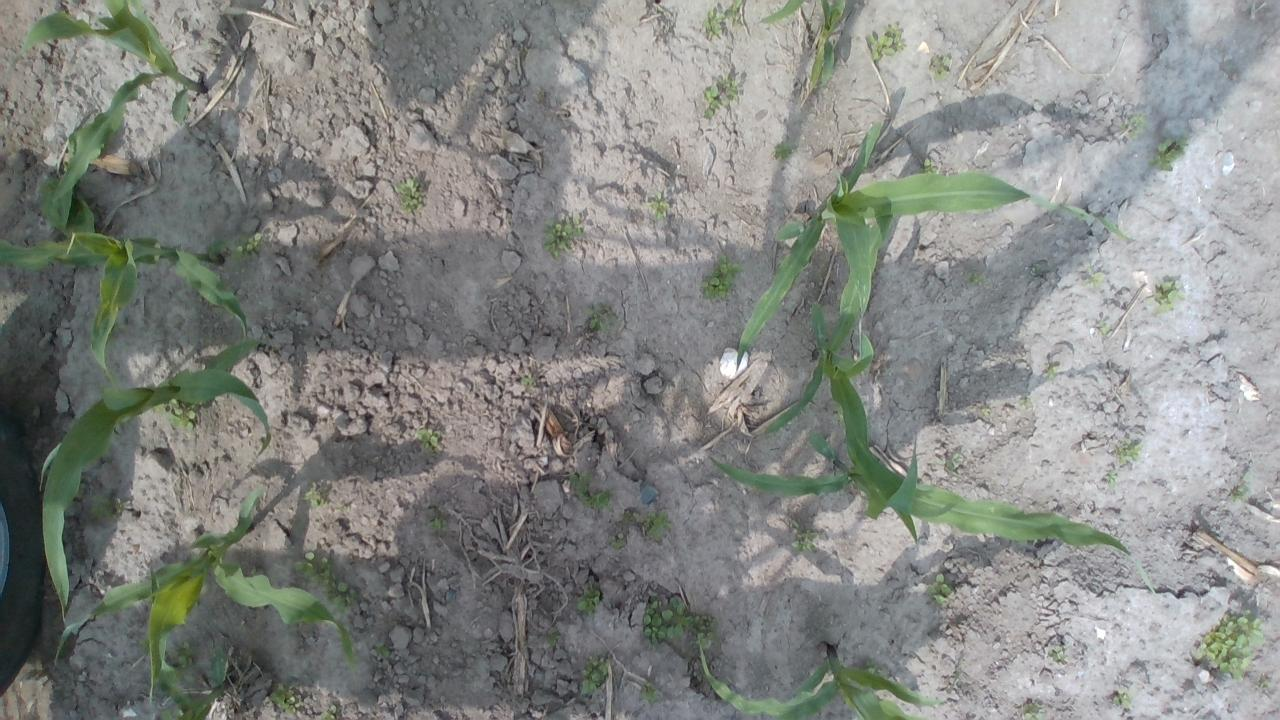Maize: (731, 118, 1144, 373), (54, 481, 360, 720), (39, 334, 274, 635), (760, 175, 920, 513), (706, 432, 1134, 558), (0, 200, 253, 392), (8, 0, 210, 237), (696, 639, 944, 720), (757, 0, 857, 92)
Weeds: (1199, 609, 1266, 683), (642, 596, 716, 652), (542, 212, 588, 260), (702, 75, 748, 119), (700, 256, 744, 298), (701, 0, 746, 40), (580, 654, 618, 696), (868, 22, 908, 61), (1150, 135, 1189, 172), (570, 474, 612, 508), (154, 399, 197, 432), (294, 552, 334, 582), (1150, 280, 1186, 313), (93, 496, 133, 522), (230, 232, 264, 262), (396, 178, 426, 212), (328, 580, 358, 613), (572, 584, 606, 613), (585, 302, 620, 330), (643, 508, 673, 537), (927, 574, 953, 604), (1120, 113, 1151, 138), (168, 640, 195, 668), (791, 528, 820, 554), (1115, 439, 1144, 464), (416, 426, 442, 453), (937, 453, 963, 478), (268, 690, 297, 712), (646, 194, 672, 218), (928, 56, 952, 81), (1049, 643, 1073, 666), (640, 682, 664, 703), (426, 507, 447, 530), (1113, 688, 1134, 710), (1084, 268, 1106, 288), (920, 156, 939, 178), (304, 487, 324, 507), (317, 702, 338, 720), (608, 532, 628, 550), (546, 628, 564, 646), (622, 509, 641, 526), (774, 143, 794, 158), (1025, 705, 1044, 720), (520, 373, 536, 390), (1104, 470, 1119, 488), (966, 271, 985, 285), (1230, 486, 1246, 502), (1094, 319, 1108, 337), (1019, 394, 1034, 410), (1044, 364, 1058, 380), (376, 644, 390, 658), (1257, 678, 1272, 691)
